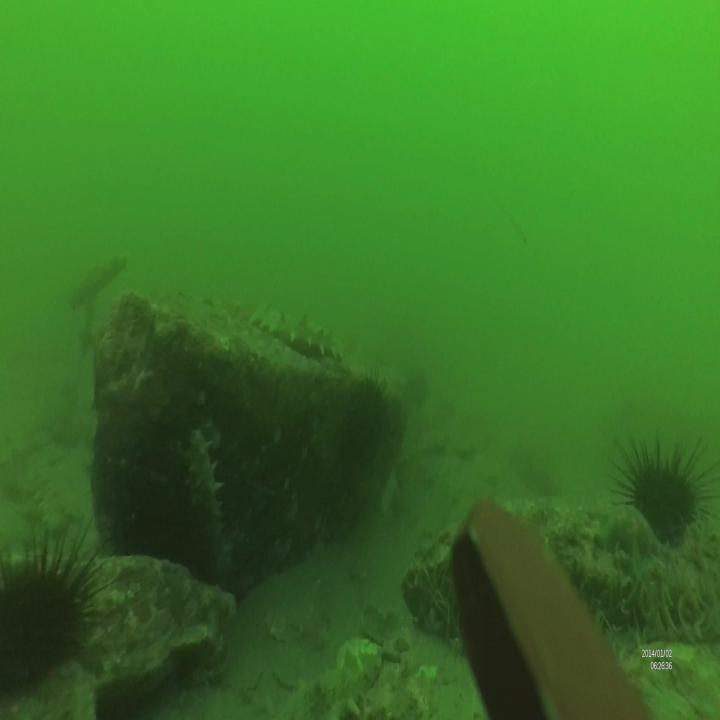echinus: (0, 514, 115, 704), (608, 432, 720, 552), (340, 360, 390, 481)
holothurian: (182, 428, 230, 594), (250, 298, 344, 366)
